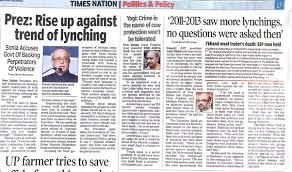Printing industry: (1, 1, 292, 172)
